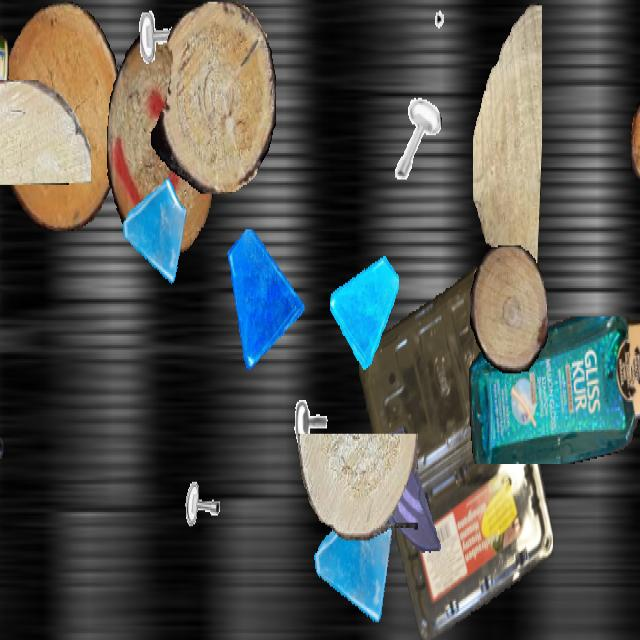glass: (312, 489, 396, 638), (225, 230, 305, 372), (366, 416, 446, 558), (121, 172, 189, 294), (330, 247, 398, 368)
metal: (133, 2, 193, 108), (179, 439, 231, 532), (391, 92, 441, 182), (292, 366, 338, 448), (434, 2, 474, 73), (635, 351, 640, 428)
plastic: (359, 265, 553, 638), (469, 316, 640, 462), (0, 2, 8, 126), (0, 327, 3, 459)
wood: (0, 2, 123, 229), (151, 2, 275, 194), (107, 36, 215, 252), (473, 1, 541, 282), (298, 434, 418, 540), (470, 245, 548, 374), (0, 80, 90, 183), (631, 84, 640, 194)
